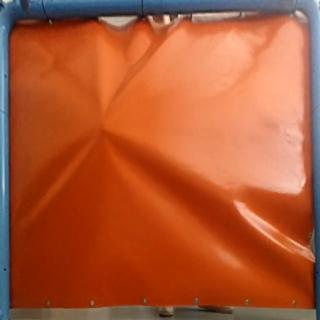Hit-hRxx: (96, 118, 110, 133)
